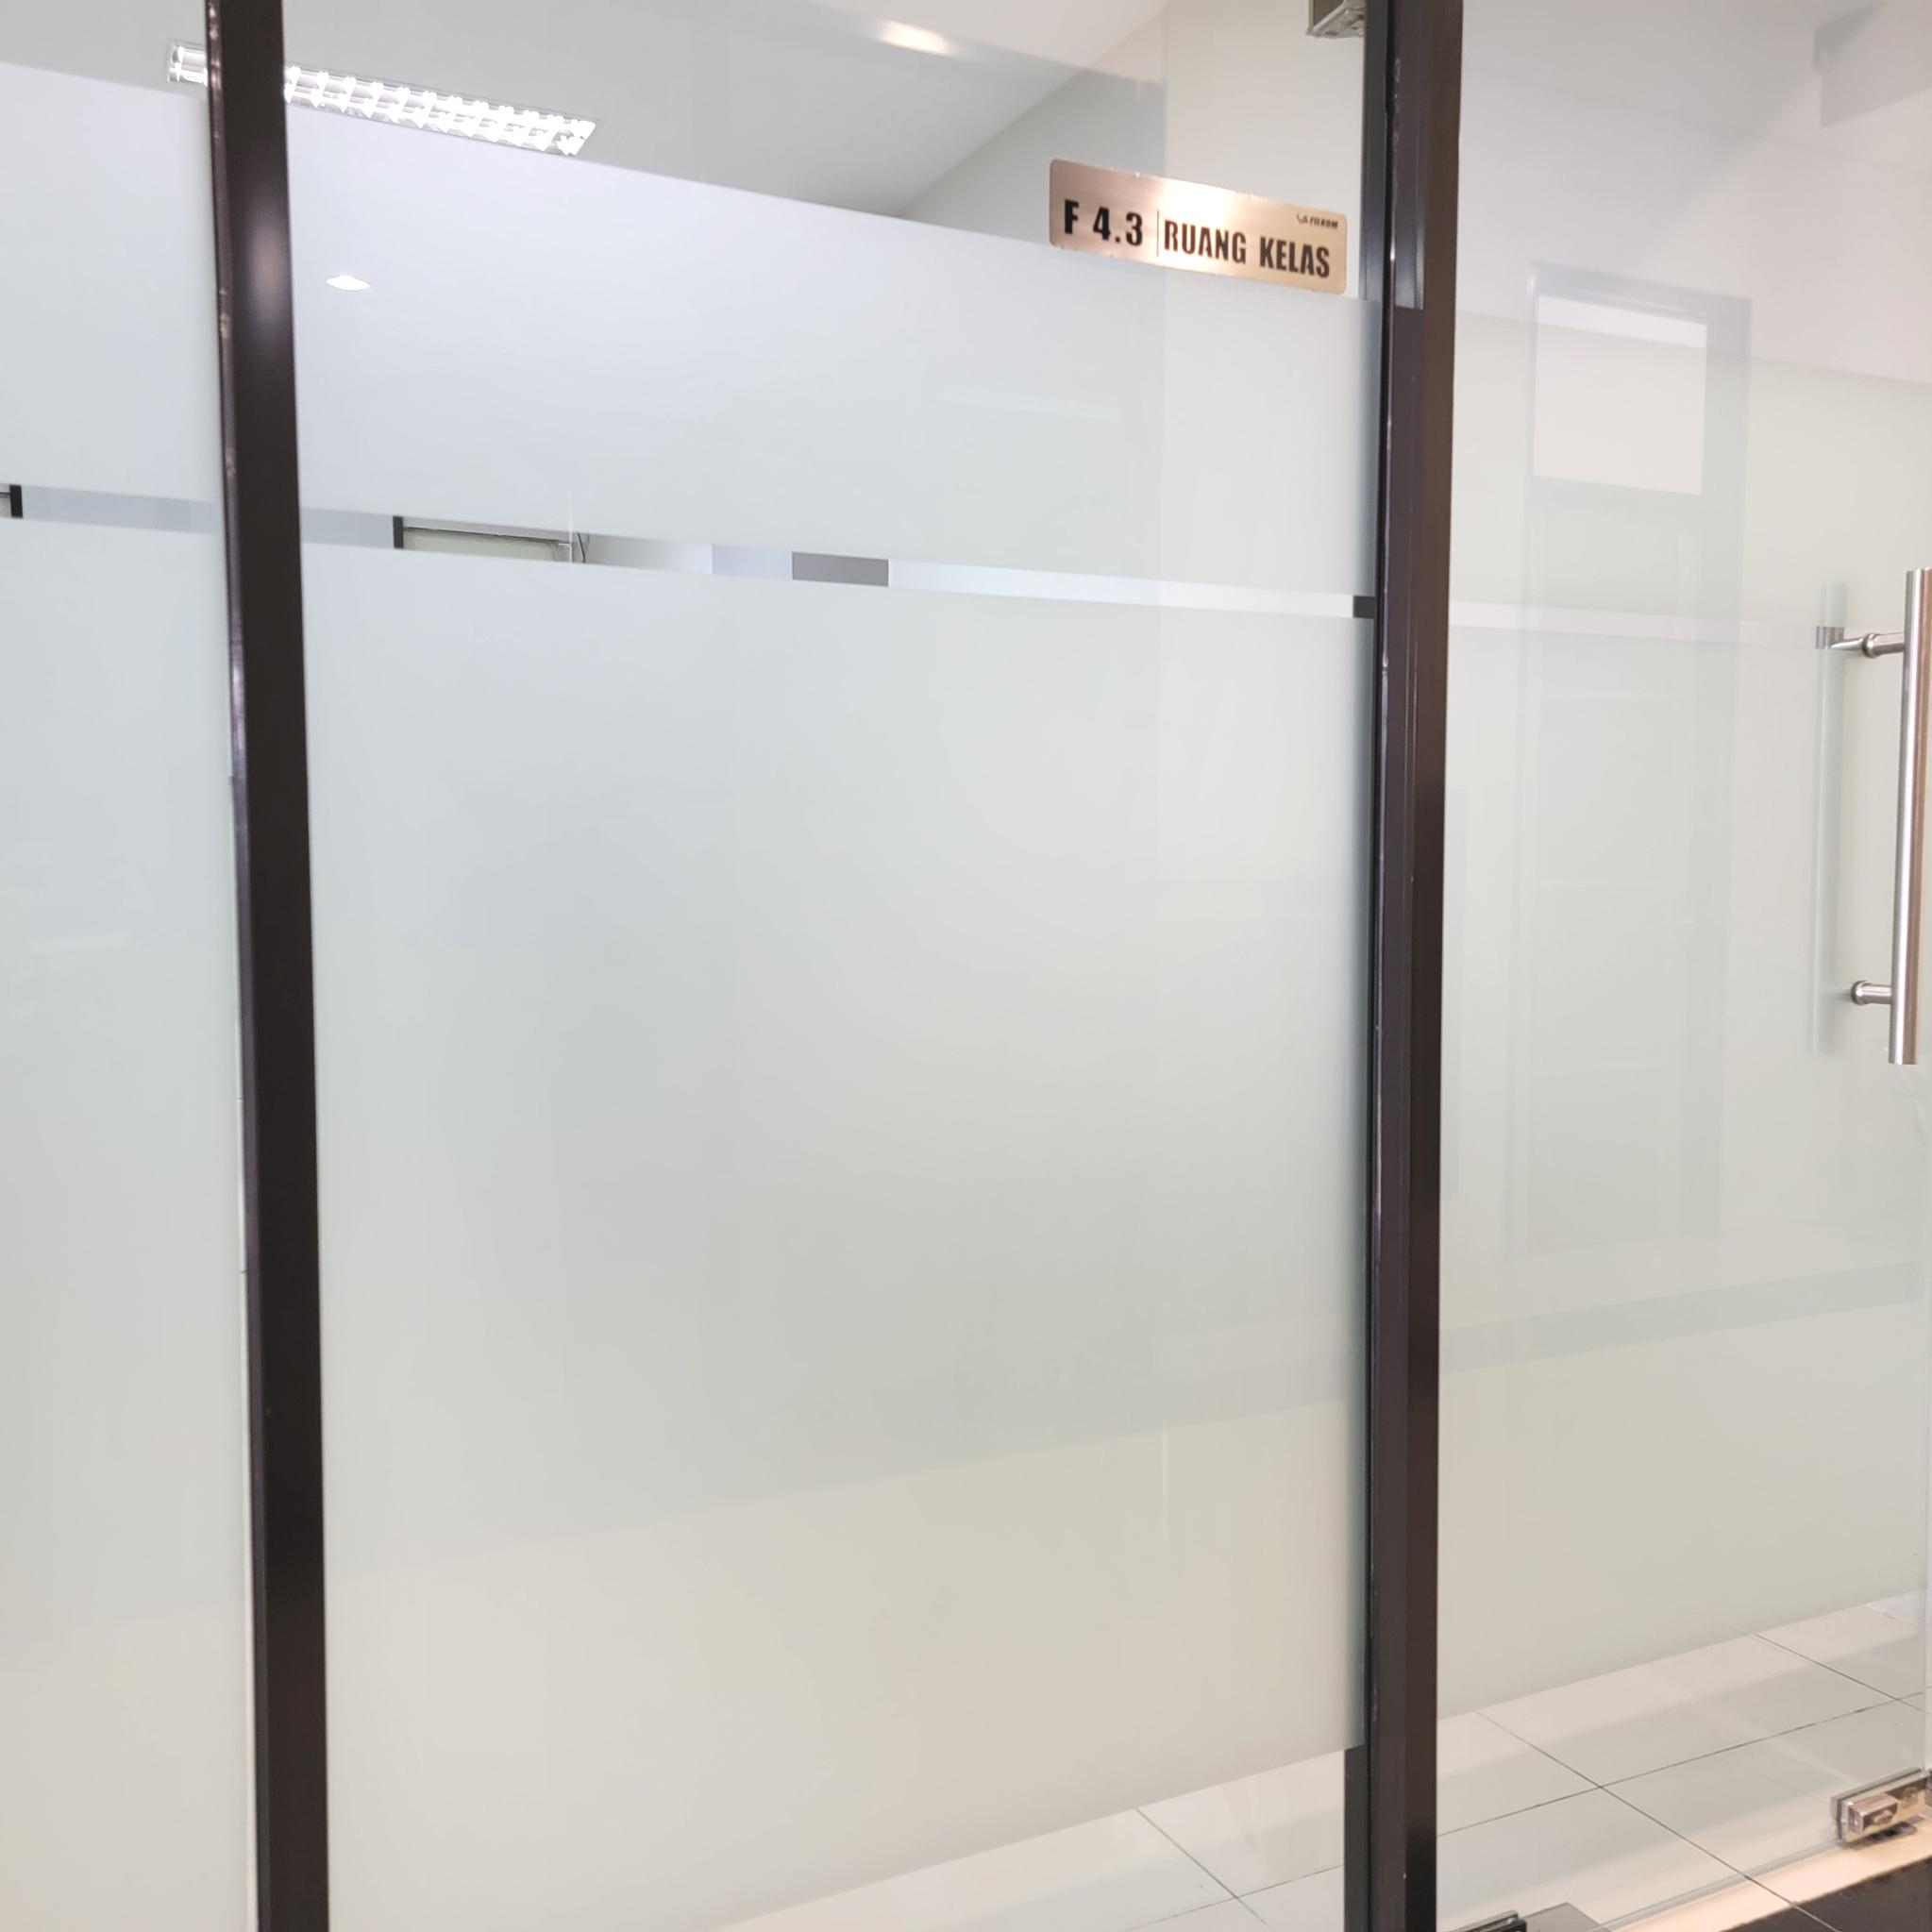plate: (1049, 159, 1346, 297)
